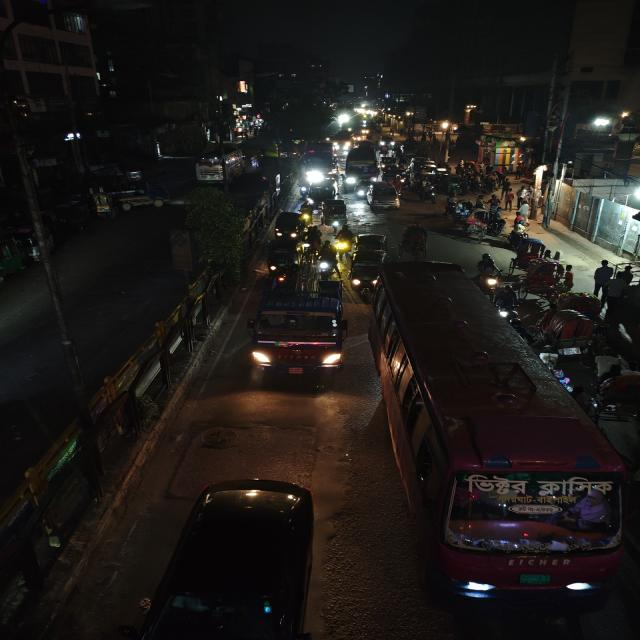bus: (375, 256, 636, 610), (192, 145, 246, 187), (299, 140, 338, 186), (346, 142, 380, 188)
car: (366, 181, 402, 212)
cng: (139, 475, 326, 639), (347, 232, 389, 292), (0, 227, 38, 293), (267, 236, 304, 288), (274, 210, 304, 242), (354, 230, 389, 256), (321, 197, 348, 229), (332, 225, 355, 253), (316, 247, 337, 277), (273, 137, 300, 160), (303, 225, 323, 255), (439, 174, 465, 196), (299, 199, 314, 223), (381, 157, 396, 172)
motorcycle: (476, 252, 503, 290), (494, 284, 518, 324), (507, 224, 529, 244), (512, 217, 532, 239)
pedestrian: (475, 252, 501, 290), (592, 259, 614, 297), (504, 190, 516, 210)
pickup_van: (245, 282, 351, 378), (115, 181, 172, 209)
rickshaw: (532, 306, 601, 357), (515, 260, 562, 298), (464, 209, 506, 240), (398, 222, 431, 259)
